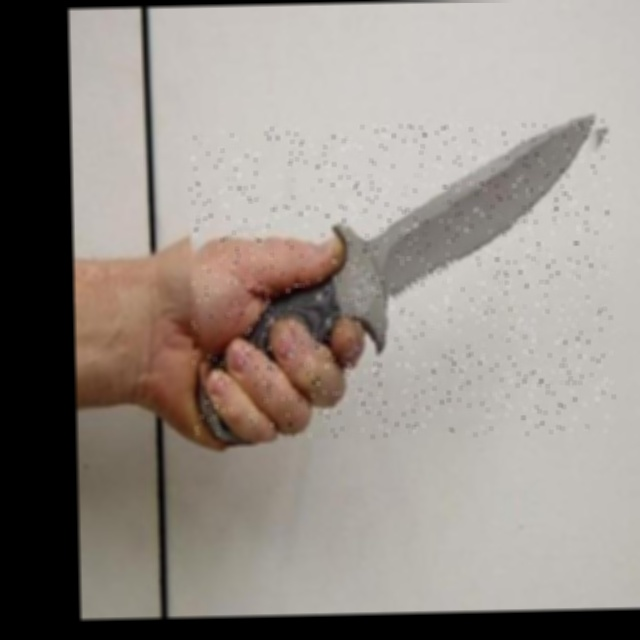Sharp-Object: (188, 120, 617, 441)
